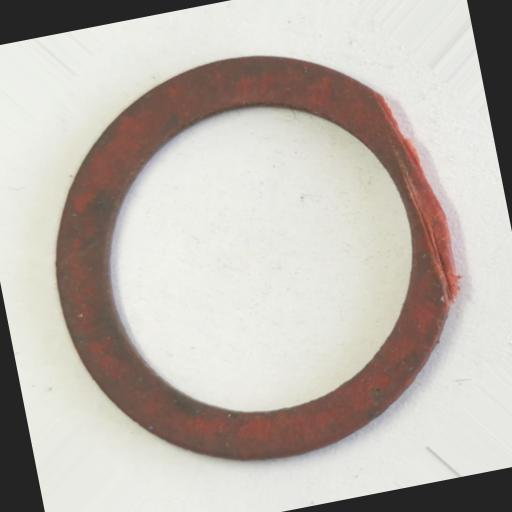defect: (372, 80, 468, 311)
